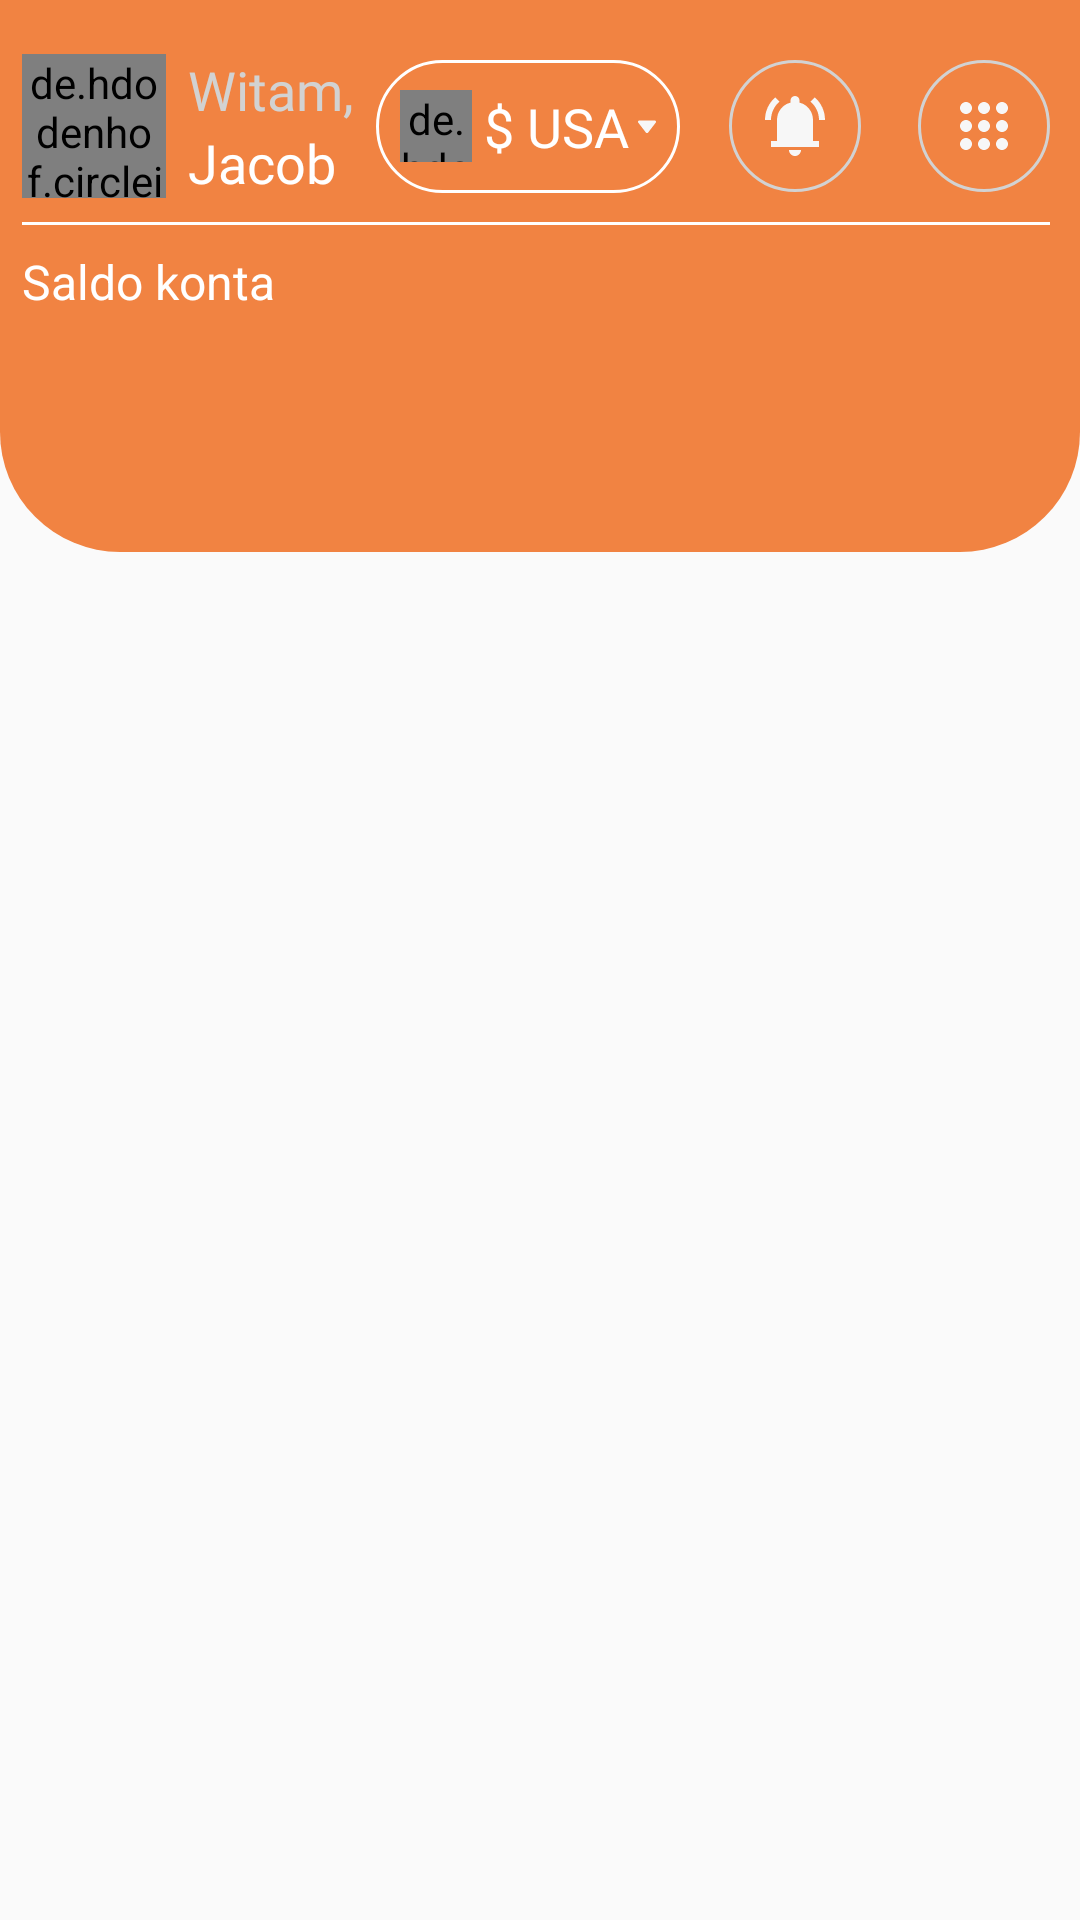

Locate icon controls on the screen. Image size 1080 x 1920, boxes as (x1, y1, x2, y2).
alarm: (729, 60, 861, 192)
menu: (918, 60, 1050, 192)
